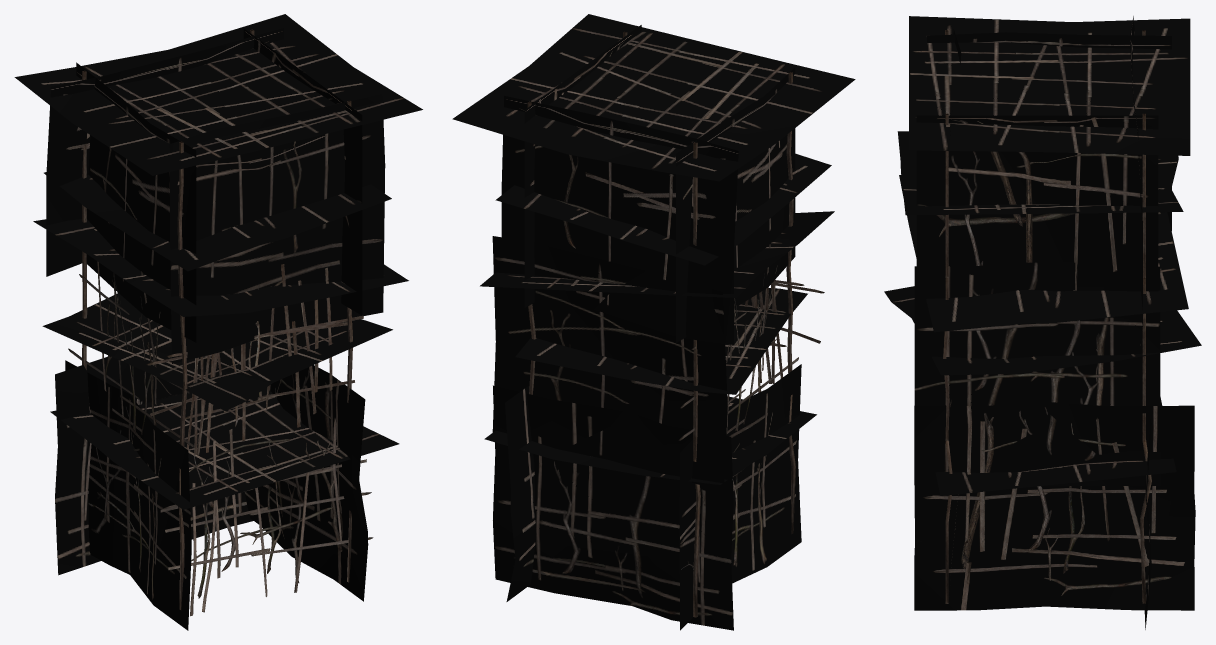
The model's file is P_CircusWoodenFrame01.FBX.
The picture shows the model from 3 angles, left to right: view 1: azimuth 30°, elevation 25°; view 2: azimuth 150°, elevation 25°; view 3: azimuth 270°, elevation 25°; orthographic projection. The views are drawn at different scales.
Parts seen in each view (by area): view 1: P_CircusWoodenFrame01; view 2: P_CircusWoodenFrame01; view 3: P_CircusWoodenFrame01.
Part boxes in pixels (x1,y1,x2,y2): P_CircusWoodenFrame01: (14,14,422,630); P_CircusWoodenFrame01: (452,14,855,630); P_CircusWoodenFrame01: (884,16,1201,629).
Bounding box in the file's own units: 1198 × 2075 × 1196.
